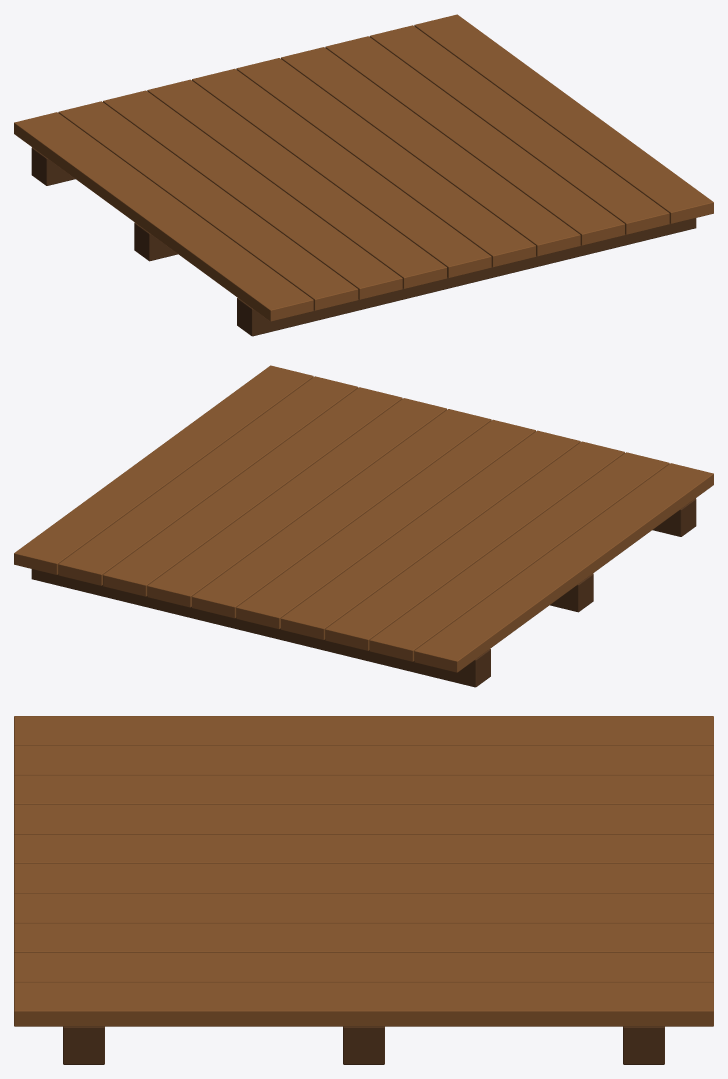
3 views of the same model, one above another, from view 1: azimuth 30°, elevation 25°; view 2: azimuth 150°, elevation 25°; view 3: azimuth 270°, elevation 25° (orthographic). The views are drawn at different scales.
Visible parts, largest first — view 1: FLOOR_Plank_0, FLOOR_Plank_1, FLOOR_Plank_4, FLOOR_Plank_5, FLOOR_Plank_8, FLOOR_Plank_2, FLOOR_Plank_3, FLOOR_Plank_6, FLOOR_Plank_7, FLOOR_Plank_9, FLOOR_Joist, FLOOR_Joist.002 (+1 smaller); view 2: FLOOR_Plank_0, FLOOR_Plank_1, FLOOR_Plank_4, FLOOR_Plank_5, FLOOR_Plank_8, FLOOR_Plank_2, FLOOR_Plank_3, FLOOR_Plank_6, FLOOR_Plank_7, FLOOR_Plank_9, FLOOR_Joist.002, FLOOR_Joist (+1 smaller); view 3: FLOOR_Plank_9, FLOOR_Plank_1, FLOOR_Plank_6, FLOOR_Plank_8, FLOOR_Plank_0, FLOOR_Plank_2, FLOOR_Plank_3, FLOOR_Plank_4, FLOOR_Plank_5, FLOOR_Plank_7, FLOOR_Joist, FLOOR_Joist.001 (+1 smaller).
Boxes of the visible parts, x1,y1,x2,y2 form: FLOOR_Plank_0: [14, 112, 313, 321]; FLOOR_Plank_1: [58, 101, 358, 310]; FLOOR_Plank_4: [192, 68, 491, 278]; FLOOR_Plank_5: [236, 58, 535, 267]; FLOOR_Plank_8: [369, 25, 669, 234]; FLOOR_Plank_2: [103, 90, 402, 299]; FLOOR_Plank_3: [147, 79, 446, 288]; FLOOR_Plank_6: [281, 47, 580, 256]; FLOOR_Plank_7: [325, 36, 624, 245]; FLOOR_Plank_9: [414, 14, 713, 223]; FLOOR_Joist: [237, 218, 696, 336]; FLOOR_Joist.002: [31, 147, 75, 185]; FLOOR_Plank_0: [414, 463, 713, 672]; FLOOR_Plank_1: [369, 452, 669, 661]; FLOOR_Plank_4: [236, 419, 535, 629]; FLOOR_Plank_5: [192, 409, 491, 618]; FLOOR_Plank_8: [58, 376, 358, 585]; FLOOR_Plank_2: [325, 441, 624, 650]; FLOOR_Plank_3: [281, 430, 580, 639]; FLOOR_Plank_6: [147, 398, 446, 607]; FLOOR_Plank_7: [103, 387, 402, 596]; FLOOR_Plank_9: [14, 365, 313, 574]; FLOOR_Joist.002: [31, 569, 490, 687]; FLOOR_Joist: [652, 498, 696, 536]; FLOOR_Plank_9: [14, 982, 713, 1026]; FLOOR_Plank_1: [14, 745, 713, 775]; FLOOR_Plank_6: [14, 893, 713, 923]; FLOOR_Plank_8: [14, 952, 713, 982]; FLOOR_Plank_0: [14, 716, 713, 745]; FLOOR_Plank_2: [14, 775, 713, 804]; FLOOR_Plank_3: [14, 805, 713, 834]; FLOOR_Plank_4: [14, 834, 713, 863]; FLOOR_Plank_5: [14, 864, 713, 893]; FLOOR_Plank_7: [14, 923, 713, 952]; FLOOR_Joist: [63, 1026, 104, 1064]; FLOOR_Joist.001: [343, 1026, 384, 1064].
Bounding box in the file's own units: 2 × 0.17 × 2.
